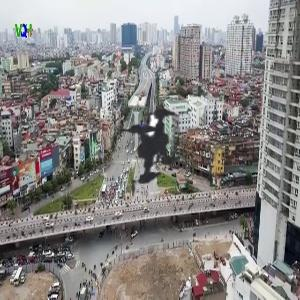drone: (23, 6, 285, 268)
